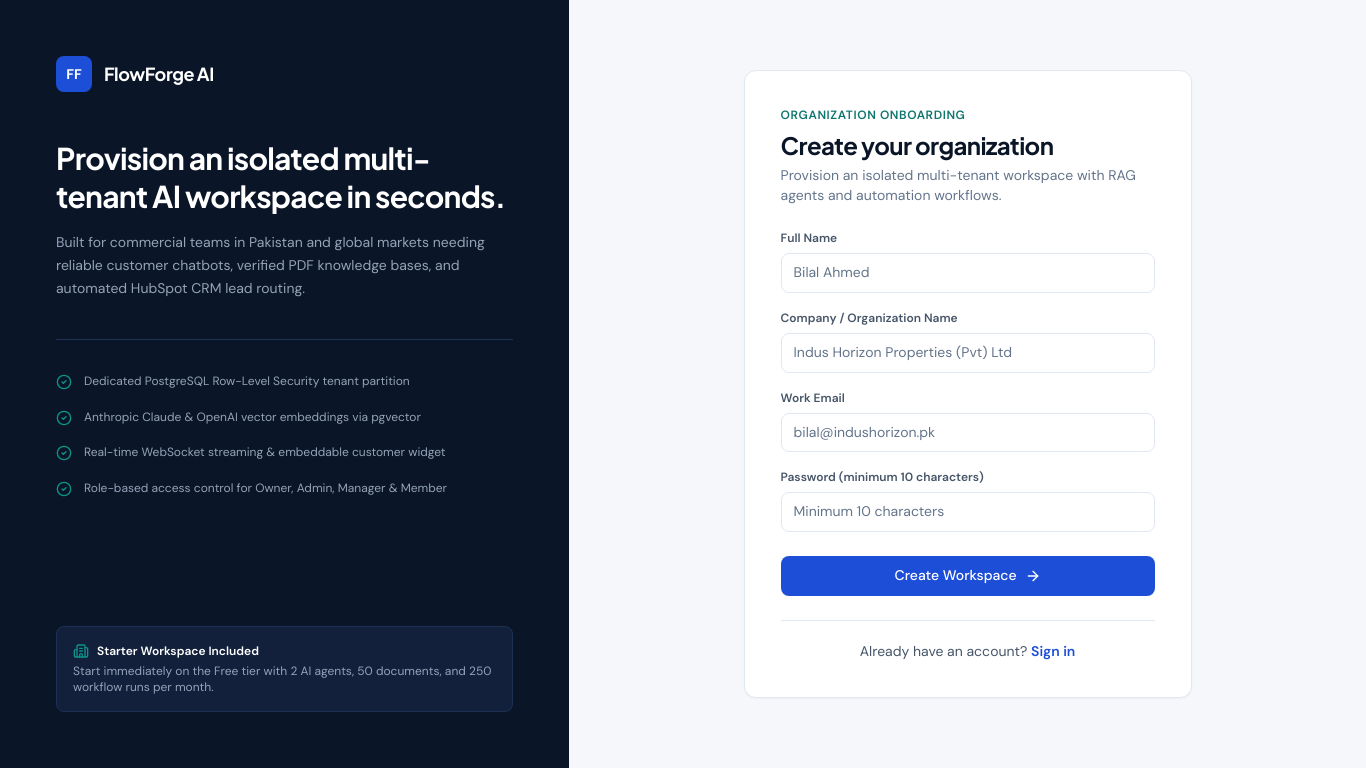
it: Authentication Forms & Protected Routes › validates registration password length and organization name
Type "Alex Rivera" into the field labelled "Full Name" at (968, 273), box x1=781 y1=253 x2=1155 y2=293
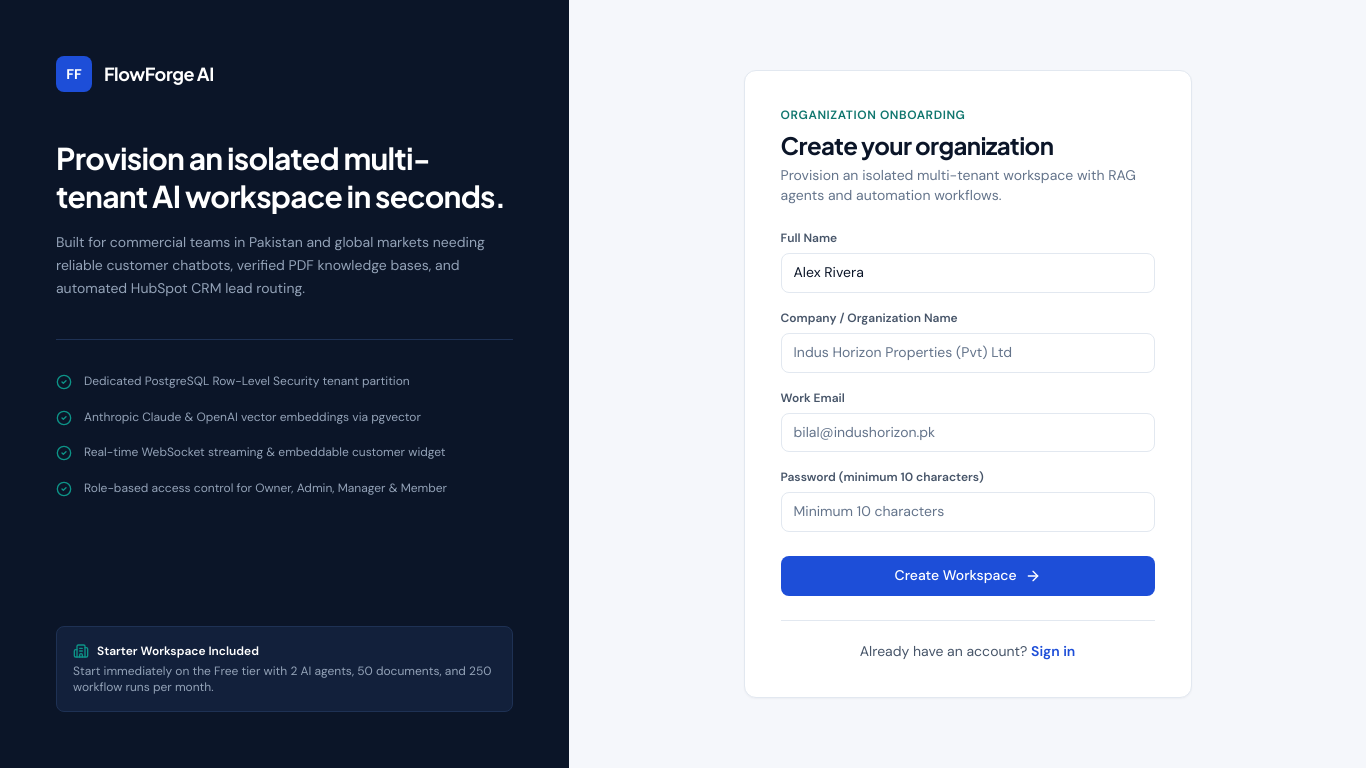
Type "Apex Realty" into the field labelled "Company / Organization Name" at (968, 353), box x1=781 y1=333 x2=1155 y2=372
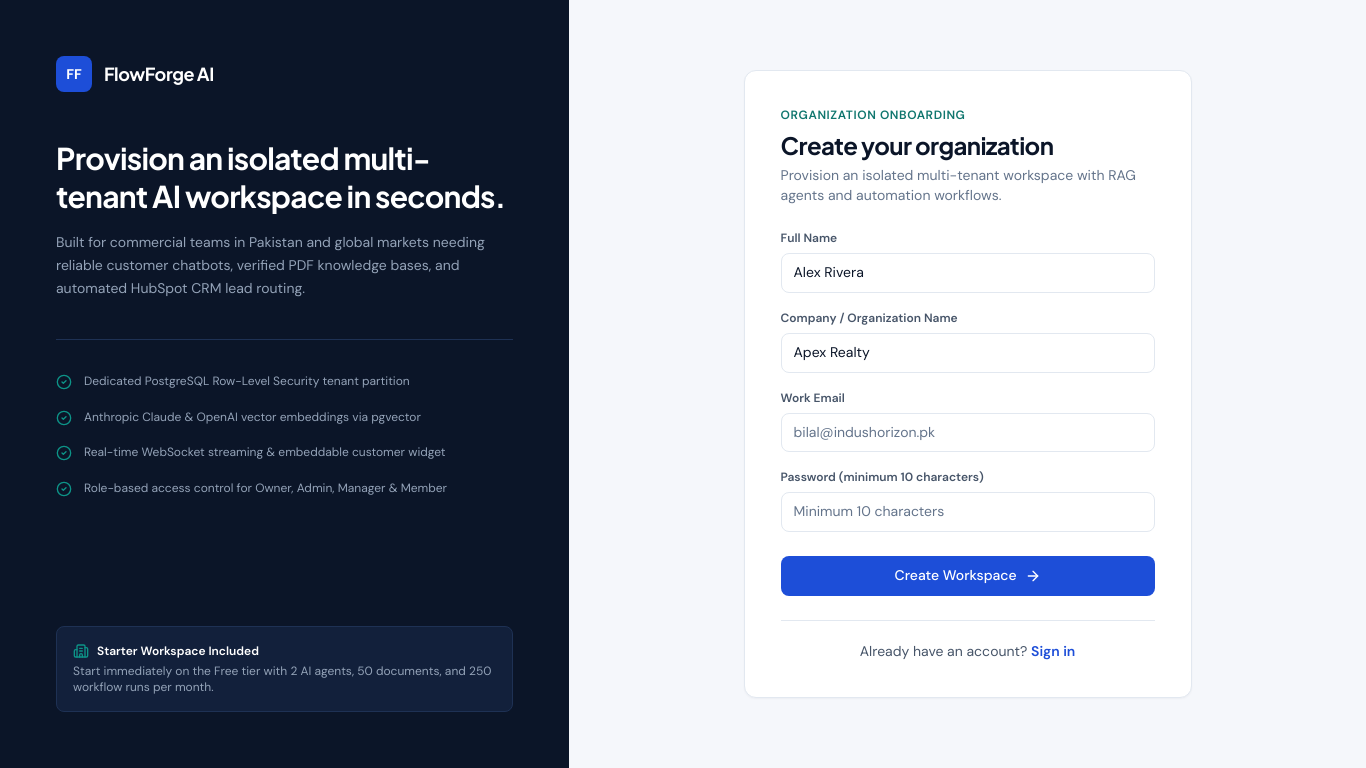
Type "alex@apex.com" into the field labelled "Work Email" at (968, 432), box x1=781 y1=412 x2=1155 y2=452
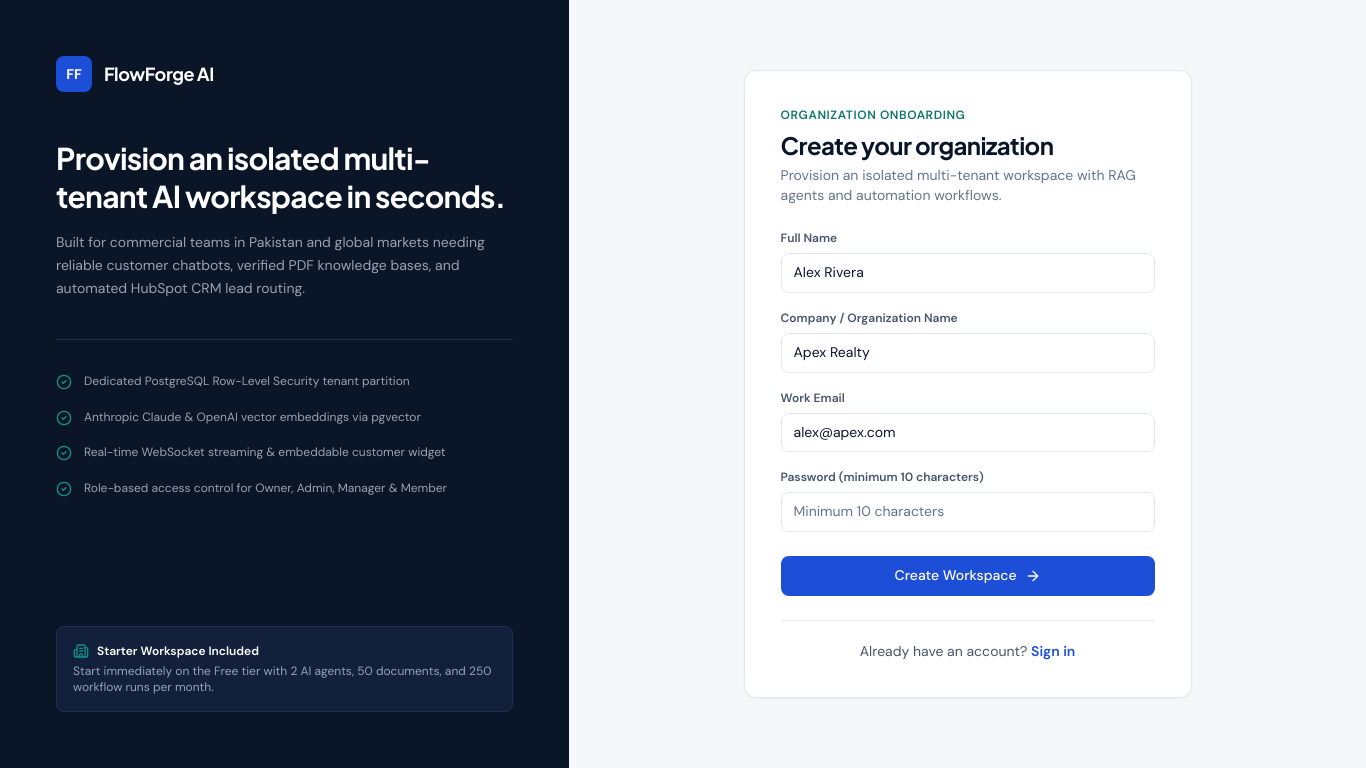
Type "short" into the password field labelled "Password (minimum 10 characters)" at (968, 512), box x1=781 y1=492 x2=1155 y2=532
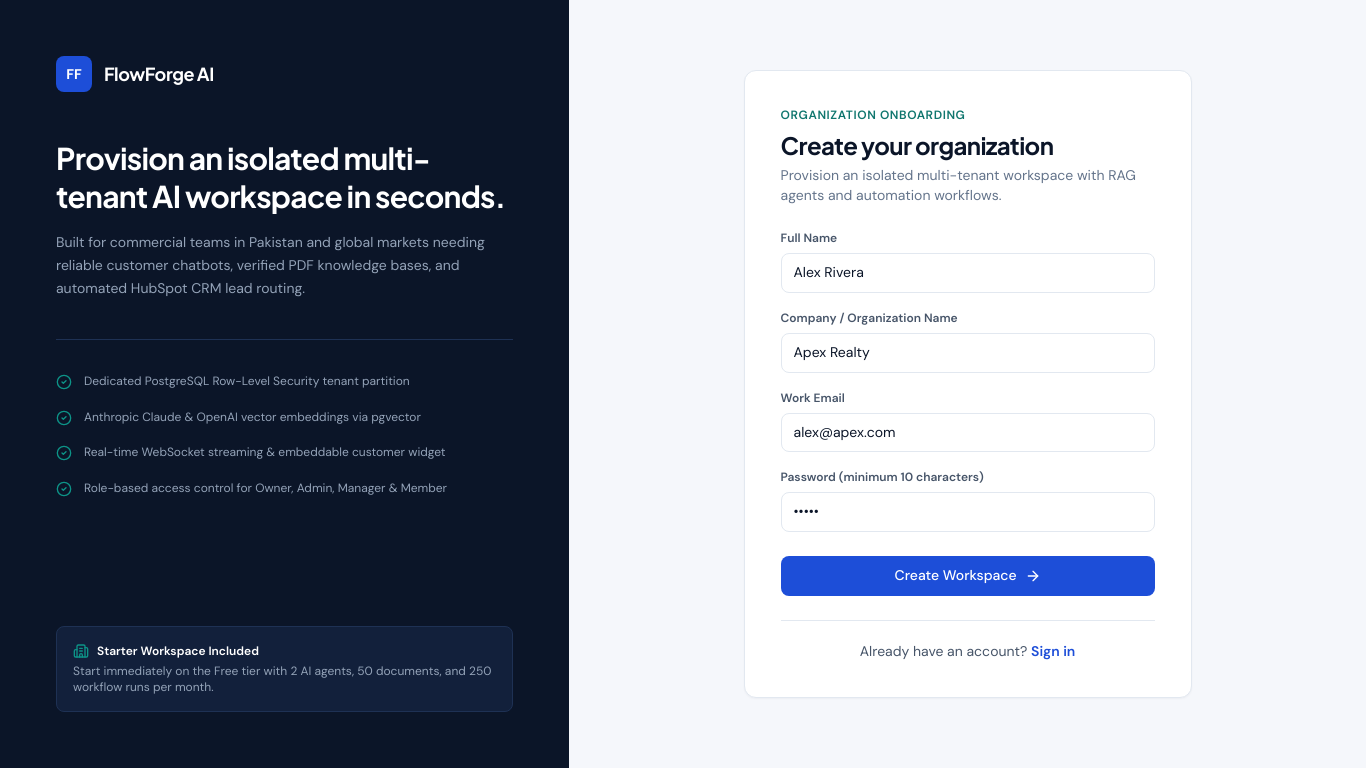
Click the button "Create Workspace" at (968, 576), box x1=781 y1=556 x2=1155 y2=596
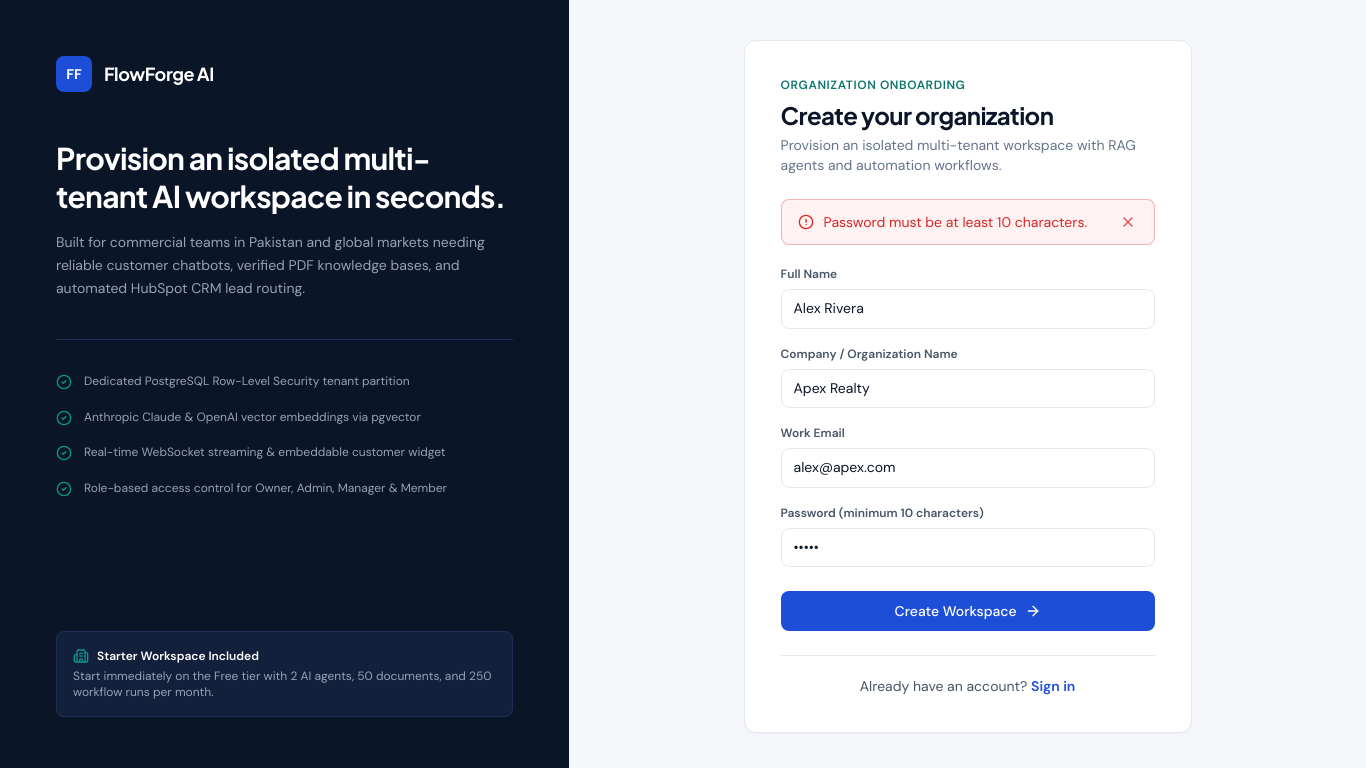
Result: the text "Password must be at least 10 characters." is shown at x1=824 y1=212 x2=1087 y2=232
